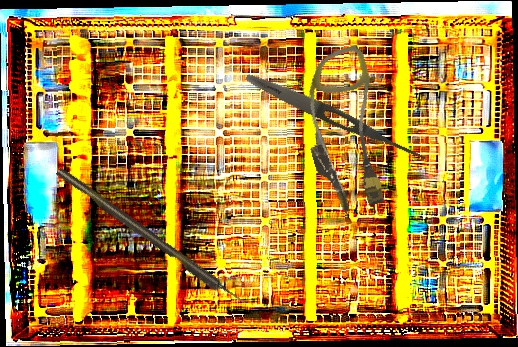Cannula: (286, 43, 404, 218)
Dressing Forceps: (242, 68, 430, 166)
Hook Surgical: (54, 165, 248, 310)
